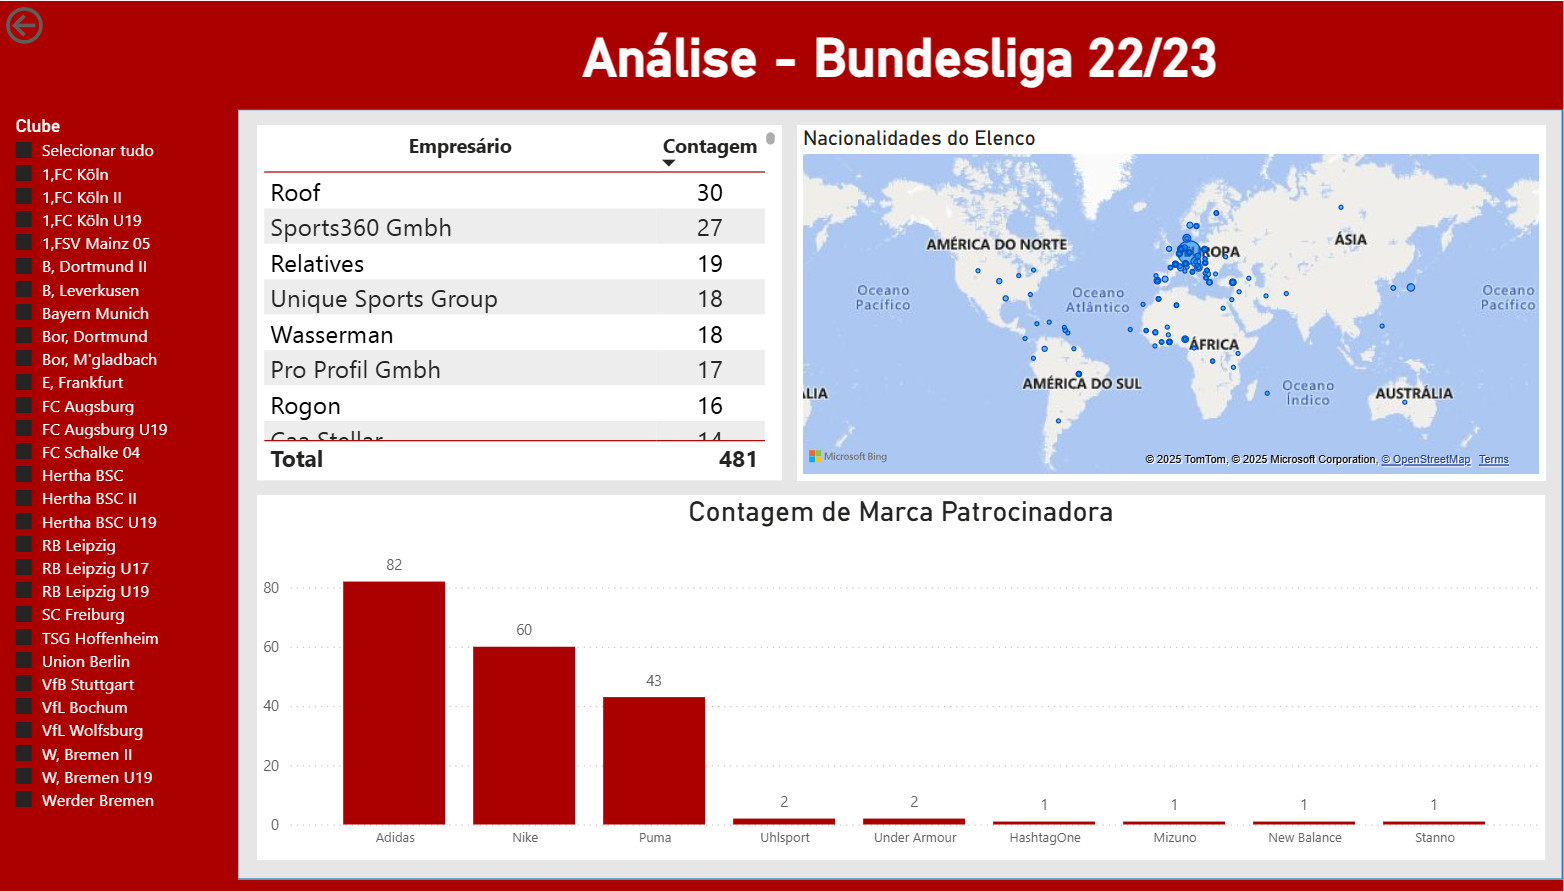

Layout of this report page (visuals, bound fields, positions):
{"tool":"powerbi","page":{"name":"Página 2","canvas":[1280,720],"ordinal":1},"visuals":[{"type":"textbox","box":[0,16.9,1280,60.4],"z":0},{"type":"shape","box":[0,89.4,1280,630.3],"z":1000},{"type":"clusteredColumnChart","title":"Principais Marcas Patrocinadoras de Atletas","fields":{"Category":["bundesliga_player 2.Marca Patrocinadora"],"Y":["CountNonNull(bundesliga_player 2.Marca Patrocinadora)"]},"box":[14.5,404.5,429.9,298.3],"z":3000},{"type":"tableEx","fields":{"Values":["bundesliga_player 2.Agenciador","CountNonNull(bundesliga_player 2.Agenciador)"]},"box":[14.5,102.6,429.9,291],"z":4000},{"type":"map","title":"Nacionalidades do Elenco","fields":{"Category":["bundesliga_player 2.Nacionalidade"],"Size":["CountNonNull(bundesliga_player 2.Nacionalidade)"]},"box":[452.8,101.4,812.7,601.4],"z":5000},{"type":"pageNavigator","box":[1141.2,21.4,120.4,50],"z":6000},{"type":"actionButton","box":[1083.2,21.7,49.5,49.5],"z":7001}]}

Visuals, with their boxes in screenshot pixels (x1, y1, x2, y2), scaled from the page's 1280x720 canvas onto the 1564x892 screenshot:
textbox: 0, 21, 1563, 96
shape: 0, 111, 1563, 891
"Principais Marcas Patrocinadoras de Atletas" clusteredColumnChart: 18, 501, 543, 871
tableEx - bundesliga_player 2.Agenciador x CountNonNull(bundesliga_player 2.Agenciador): 18, 127, 543, 488
"Nacionalidades do Elenco" map: 553, 126, 1546, 871
pageNavigator: 1394, 27, 1542, 88
actionButton: 1324, 27, 1384, 88
